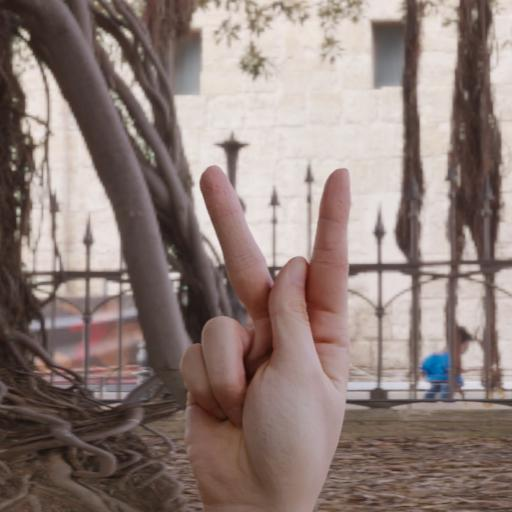K: (174, 152, 367, 512)
